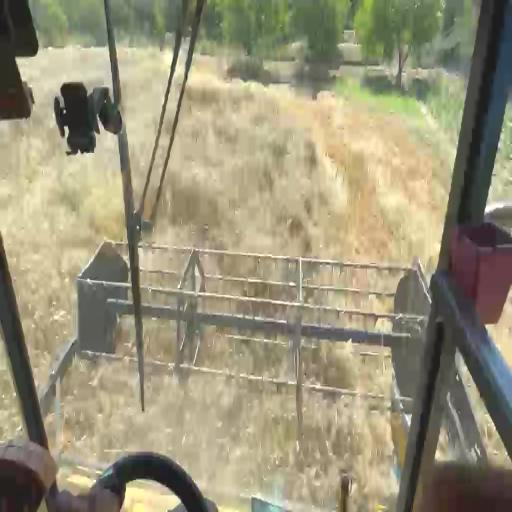arpa: (156, 56, 452, 270), (43, 133, 123, 275), (120, 55, 168, 195)
